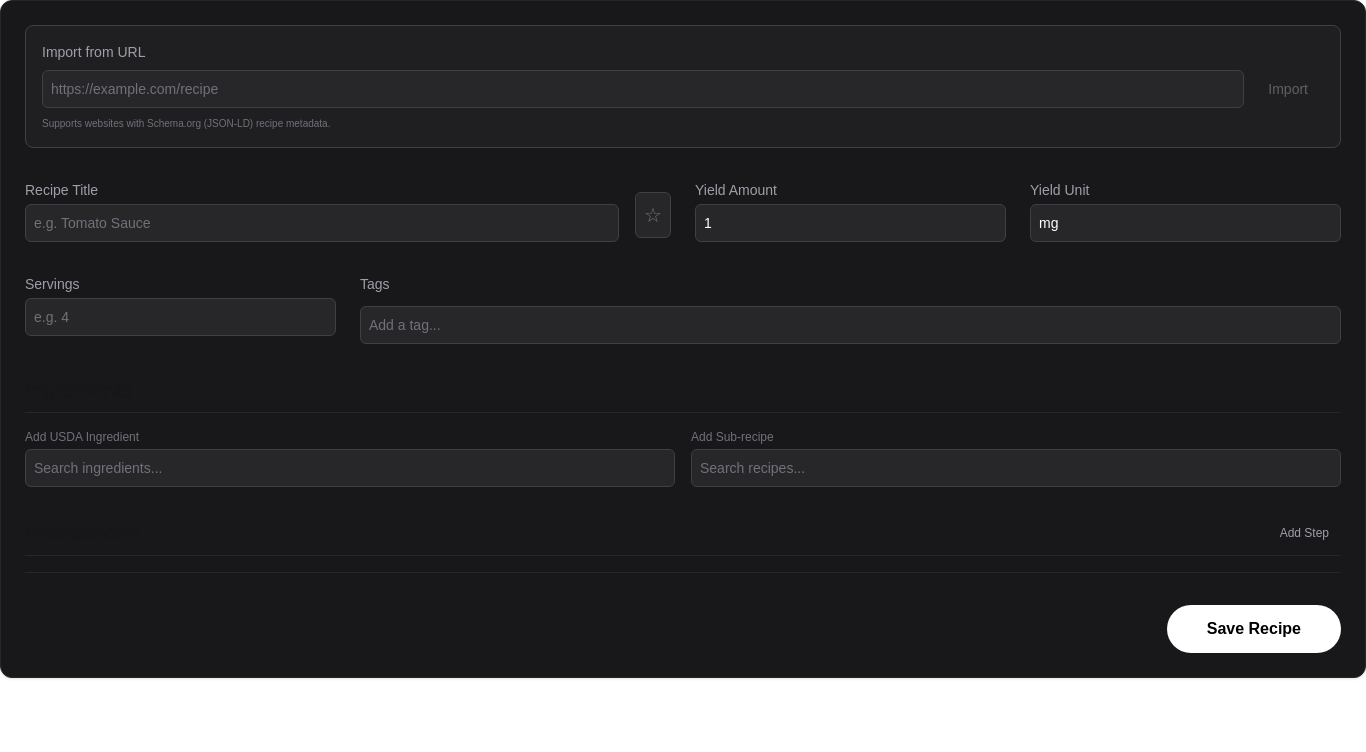
Test: RecipeEditor › shows error if title is missing
This screenshot has width=1366, height=752.
Click the button "Save Recipe".
click(1254, 629)  # box [1167, 605, 1341, 653]
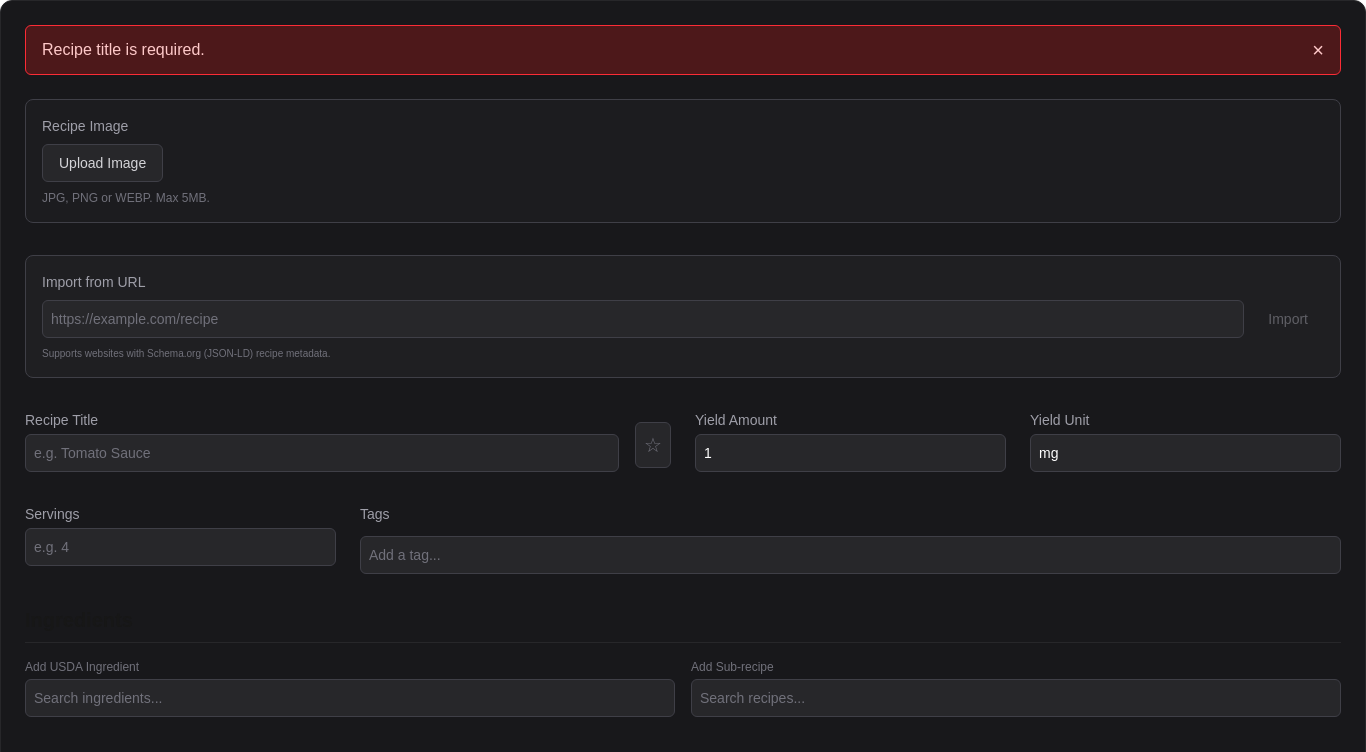
Expected: the text "Recipe title is required." is shown, [42, 38, 205, 62]
